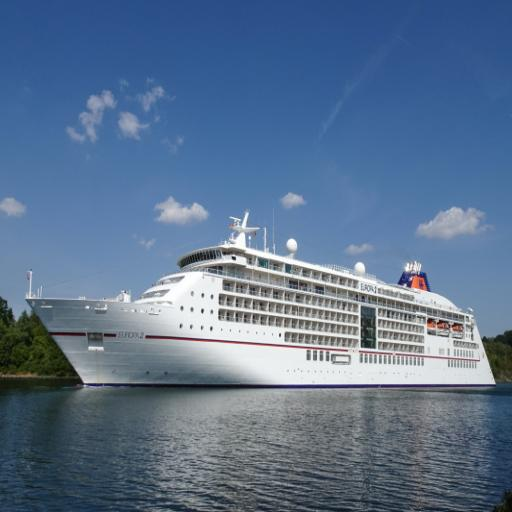cruises: (24, 205, 507, 400)
